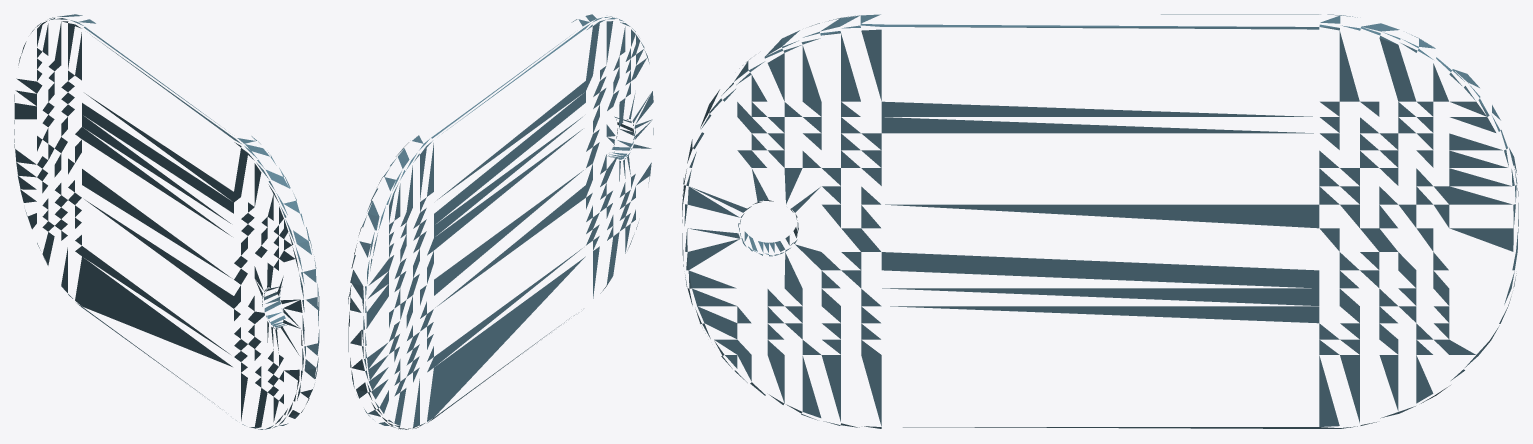
Rendered from kitchenware_cuttingBoard_a01.glb.
3 views of the same model, side by side, from view 1: azimuth 30°, elevation 25°; view 2: azimuth 150°, elevation 25°; view 3: azimuth 270°, elevation 25° (orthographic). The views are drawn at different scales.
Parts seen in each view (by area): view 1: geometry_0; view 2: geometry_0; view 3: geometry_0.
Boxes of the visible parts, x1,y1,x2,y2 form: geometry_0: [14, 14, 319, 429]; geometry_0: [348, 14, 653, 429]; geometry_0: [682, 14, 1518, 428].
Bounding box in the file's own units: 0.0172 × 0.2574 × 0.48.
